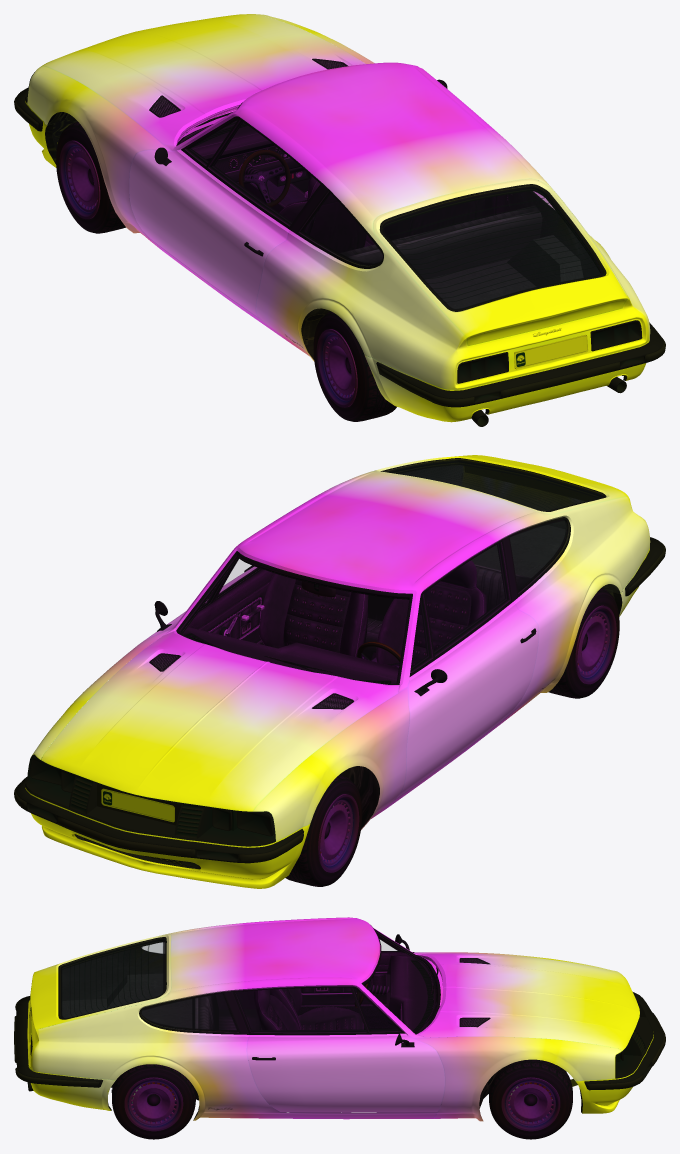
The model's file is pigalle.glb.
The picture shows the model from 3 angles, top to bottom: view 1: azimuth 30°, elevation 25°; view 2: azimuth 150°, elevation 25°; view 3: azimuth 270°, elevation 25°; orthographic projection. The views are drawn at different scales.
Visible parts, largest first — view 1: bodyshell, chassis, bonnet, windscreen_r, door_dside_f, boot, bumper_r, window_lf, wheel_lr, wheel_lf, window_lr, bumper_f (+2 smaller); view 2: bodyshell, bonnet, chassis, door_dside_f, bumper_f, wheel_lf, window_lf, windscreen_r, boot, door_pside_f, wheel_lr, window_lr (+2 smaller); view 3: bodyshell, bonnet, door_pside_f, chassis, windscreen_r, wheel_rf, wheel_rr, window_rf, bumper_r, boot, bumper_f, window_rr (+2 smaller).
Boxes of the visible parts, x1=… form: bodyshell: x1=25, y1=14, x2=650, y2=389; chassis: x1=47, y1=112, x2=600, y2=359; bonnet: x1=41, y1=14, x2=365, y2=146; windscreen_r: x1=382, y1=186, x2=603, y2=310; door_dside_f: x1=129, y1=116, x2=322, y2=316; boot: x1=373, y1=178, x2=627, y2=345; bumper_r: x1=365, y1=322, x2=665, y2=422; window_lf: x1=211, y1=121, x2=319, y2=224; wheel_lr: x1=313, y1=311, x2=396, y2=421; wheel_lf: x1=56, y1=121, x2=125, y2=233; window_lr: x1=301, y1=193, x2=382, y2=265; bumper_f: x1=14, y1=87, x2=58, y2=167; bodyshell: x1=25, y1=471, x2=650, y2=846; bonnet: x1=41, y1=630, x2=399, y2=811; chassis: x1=179, y1=465, x2=620, y2=828; door_dside_f: x1=396, y1=539, x2=538, y2=798; bumper_f: x1=14, y1=776, x2=310, y2=888; wheel_lf: x1=285, y1=774, x2=362, y2=886; window_lf: x1=425, y1=544, x2=508, y2=653; windscreen_r: x1=385, y1=460, x2=603, y2=511; boot: x1=373, y1=455, x2=627, y2=514; door_pside_f: x1=141, y1=558, x2=274, y2=645; wheel_lr: x1=548, y1=588, x2=619, y2=698; window_lr: x1=510, y1=519, x2=566, y2=590; bodyshell: x1=27, y1=917, x2=653, y2=1121; bonnet: x1=416, y1=953, x2=639, y2=1050; door_pside_f: x1=232, y1=986, x2=444, y2=1112; chassis: x1=62, y1=931, x2=577, y2=1120; windscreen_r: x1=60, y1=938, x2=165, y2=1018; wheel_rf: x1=489, y1=1060, x2=572, y2=1139; wheel_rr: x1=112, y1=1064, x2=195, y2=1139; window_rf: x1=236, y1=988, x2=365, y2=1031; bumper_r: x1=14, y1=996, x2=115, y2=1110; boot: x1=30, y1=934, x2=171, y2=1029; bumper_f: x1=576, y1=992, x2=665, y2=1113; window_rr: x1=141, y1=993, x2=237, y2=1032.
Bounding box in the file's own units: 1.91 × 1.29 × 5.04.
17 materials, 17 textured.
